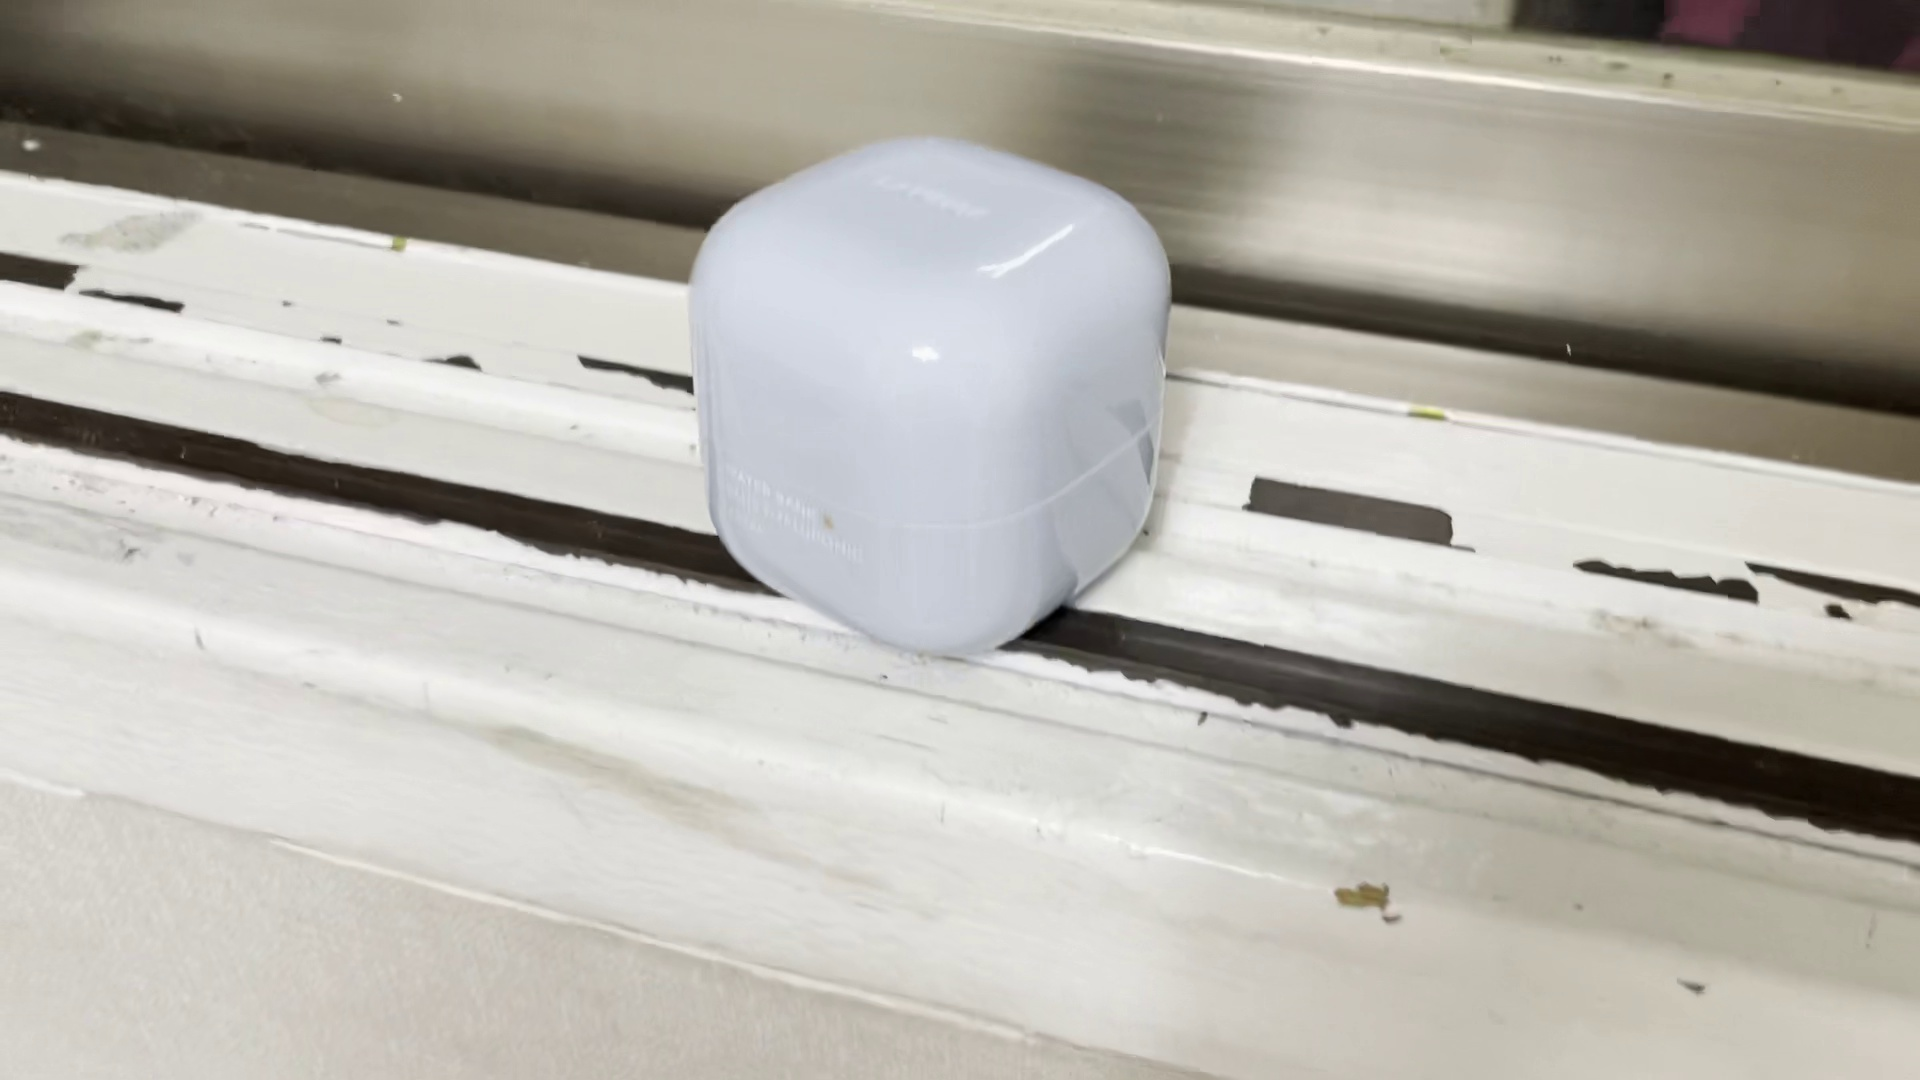cream: (695, 133, 1171, 651)
